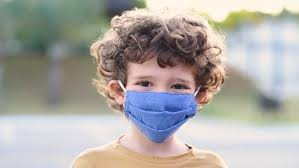with-mask: (90, 6, 235, 158)
